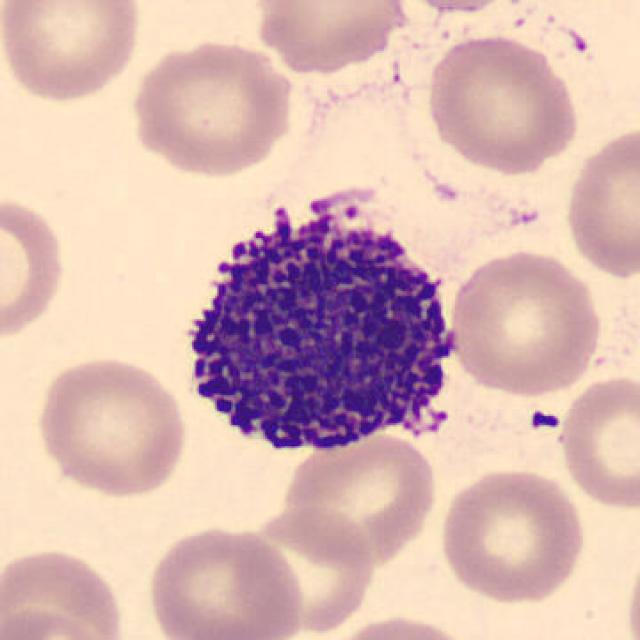Basophil: (165, 180, 480, 471)
Platelets: (526, 407, 562, 434)
RBC: (124, 35, 298, 180), (444, 245, 606, 399), (30, 351, 190, 501), (421, 30, 583, 176), (281, 425, 443, 568), (436, 464, 588, 606), (234, 499, 380, 636), (142, 522, 308, 640), (0, 0, 146, 106), (0, 541, 132, 640), (560, 120, 638, 284), (249, 0, 416, 74), (555, 370, 638, 513), (0, 190, 71, 346), (316, 612, 480, 640), (0, 603, 114, 640), (382, 0, 532, 16), (624, 537, 640, 640)
